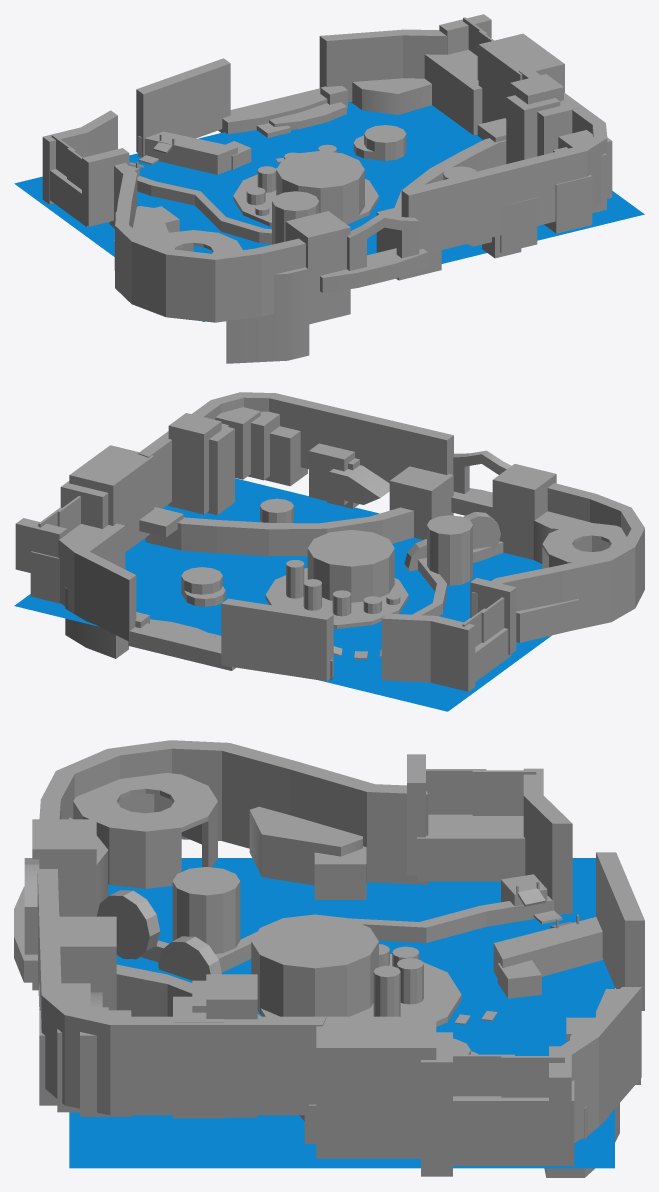
The model's file is Zone_2_Blockout.fbx.
The picture shows the model from 3 angles, top to bottom: view 1: azimuth 30°, elevation 25°; view 2: azimuth 150°, elevation 25°; view 3: azimuth 270°, elevation 25°; orthographic projection. The views are drawn at different scales.
Parts seen in each view (by area): view 1: pPlane1, pCube31, pCube29, pCube32, pCube41, pCube61, pCylinder7, pCube38, pCube45, pCube46, pCube52, pCube54 (+24 smaller); view 2: pPlane1, pCube29, pCube31, pCube41, pCube39, pCube42, pCube32, pCylinder7, pCube45, pCube38, pCube70, pCube46 (+33 smaller); view 3: pPlane1, pCube29, pCube31, pCube45, pCylinder7, pCube46, pCube32, pCube62, pCylinder3, pCube68, pCylinder4, pCube41 (+33 smaller).
Part boxes in pixels (x1,y1,x2,y2): pPlane1: [14, 102, 644, 321]; pCube31: [109, 163, 305, 322]; pCube29: [401, 69, 607, 253]; pCube32: [319, 29, 446, 102]; pCube41: [136, 58, 230, 156]; pCube61: [226, 267, 309, 363]; pCylinder7: [276, 151, 364, 224]; pCube38: [285, 211, 350, 324]; pCube45: [478, 33, 564, 123]; pCube46: [424, 49, 482, 135]; pCube52: [138, 131, 237, 174]; pCube54: [351, 78, 431, 114]; pPlane1: [14, 478, 551, 711]; pCube29: [138, 392, 453, 508]; pCube31: [471, 483, 644, 629]; pCube41: [221, 598, 333, 681]; pCube39: [145, 507, 413, 556]; pCube42: [381, 613, 475, 691]; pCube32: [58, 534, 136, 641]; pCylinder7: [307, 530, 394, 602]; pCube45: [69, 445, 154, 551]; pCube38: [492, 464, 556, 559]; pCube70: [168, 413, 221, 514]; pCube46: [30, 523, 125, 603]; pPlane1: [69, 858, 614, 1168]; pCube29: [37, 869, 326, 1115]; pCube31: [39, 740, 428, 884]; pCube45: [316, 1016, 436, 1158]; pCylinder7: [251, 914, 378, 1016]; pCube46: [453, 1080, 574, 1165]; pCube32: [561, 987, 641, 1143]; pCube62: [417, 814, 525, 881]; pCylinder3: [73, 773, 217, 836]; pCube68: [249, 806, 362, 885]; pCylinder4: [73, 794, 217, 888]; pCube41: [596, 852, 644, 1010].
Size of the model in its own units: 137 by 39.19 by 106.
